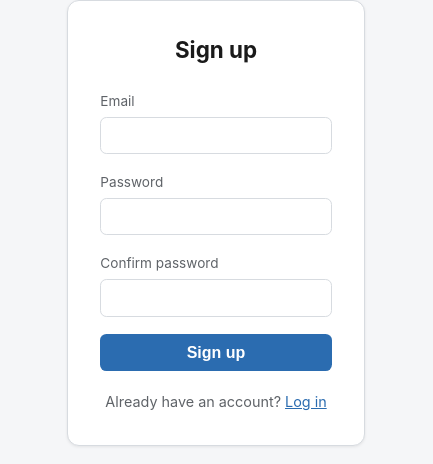
Test: shows the API key on a successful sign-up
Type "alice@example.com" into the field labelled "Email". click: [216, 135]
box: x1=100 y1=117 x2=332 y2=154
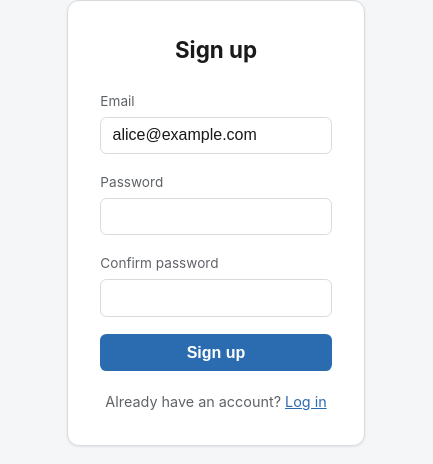
Type "correct horse battery" into the password field labelled "Password". click: [216, 217]
box: x1=100 y1=198 x2=332 y2=235
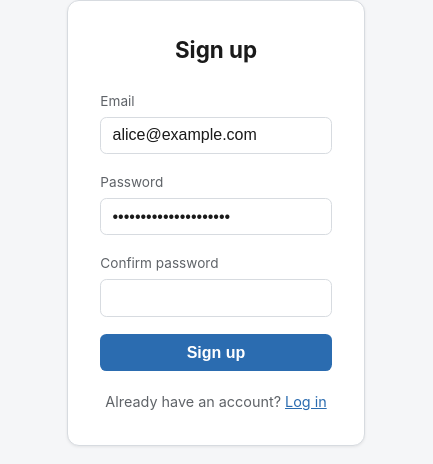
Type "correct horse battery" into the password field labelled "Confirm password". click: [216, 298]
box: x1=100 y1=279 x2=332 y2=316
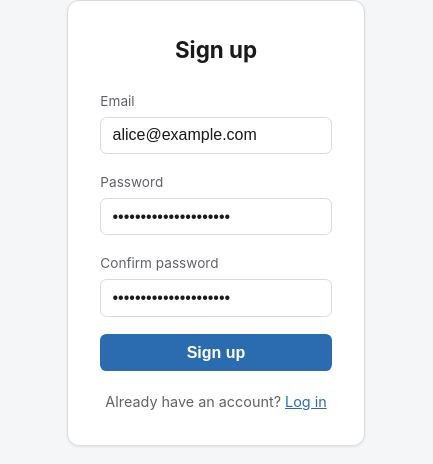
Click the button "Sign up". click: [216, 353]
box: x1=100 y1=334 x2=332 y2=371
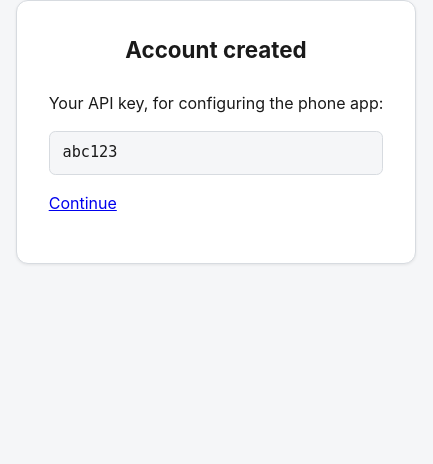
Expected: the heading "Account created" is shown, x1=125 y1=36 x2=307 y2=63
Expected: the text "abc123" is shown, x1=49 y1=131 x2=383 y2=175
